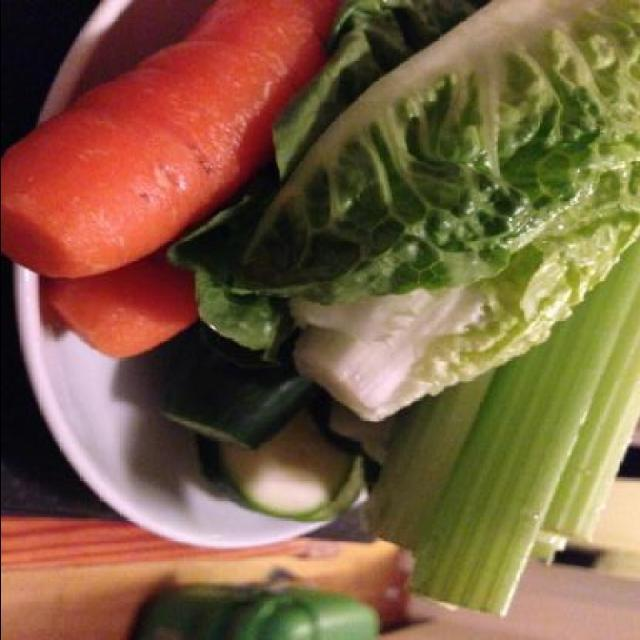Carrot: (1, 15, 368, 308), (42, 247, 202, 359)
